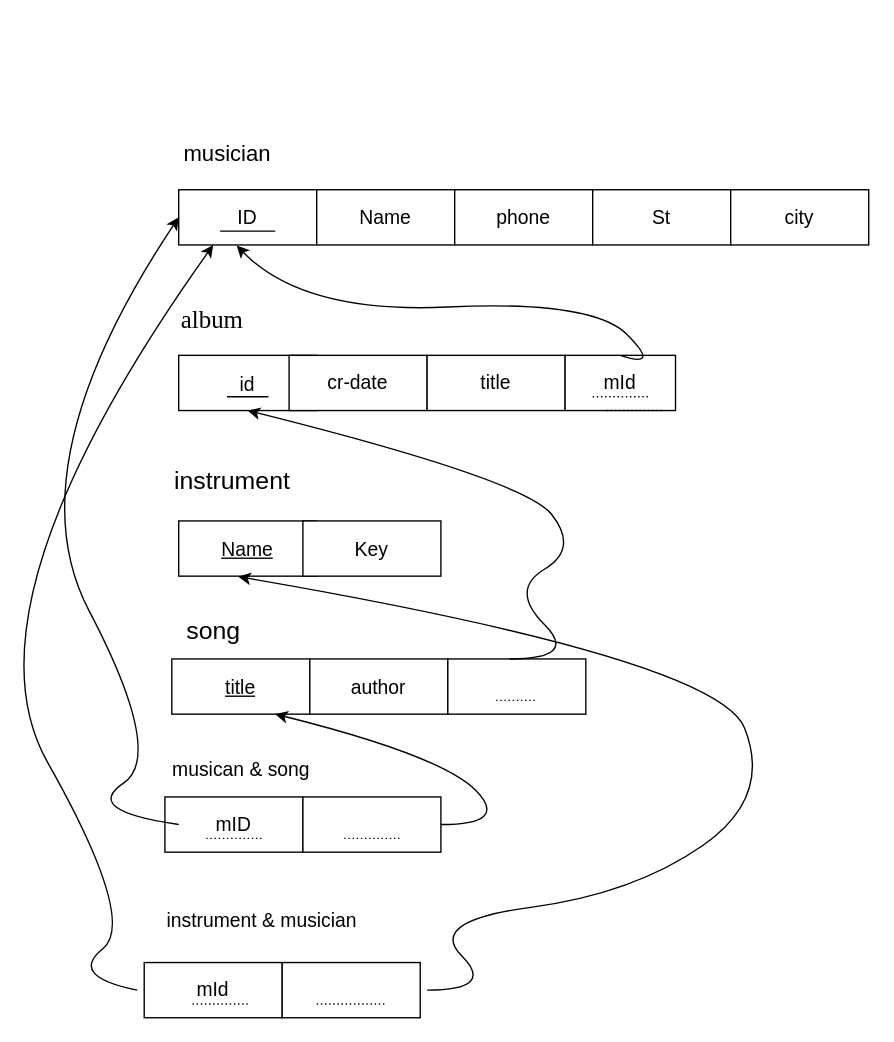
The diagram is 894 pixels wide and 1042 high, and some of its shapes have lost their labels. The shapes that lost their labels are listed below. From the top down, each one's centre as x and y in pixels, then its label:
At (516,686): "aId".
At (371,824): "sTitle".
At (350,989): "insID".
